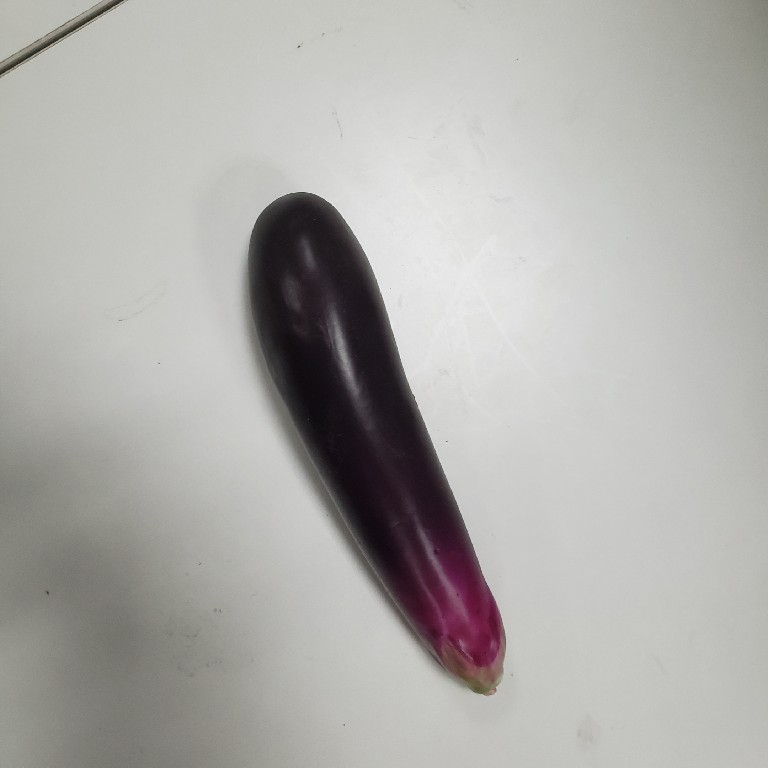fruit_eggplant: (242, 184, 518, 708)
